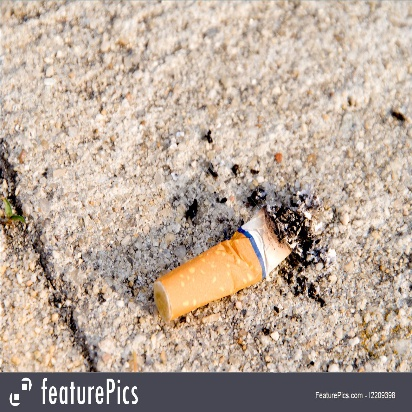cigarette: (147, 197, 314, 331)
